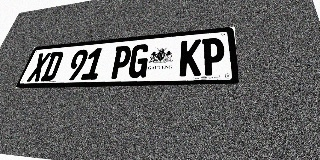1: (80, 48, 105, 80)
9: (65, 49, 90, 80)
D: (40, 51, 65, 81)
G: (127, 43, 151, 78)
K: (179, 39, 201, 76)
P: (202, 37, 225, 76), (108, 45, 133, 79)
X: (26, 52, 51, 82)
